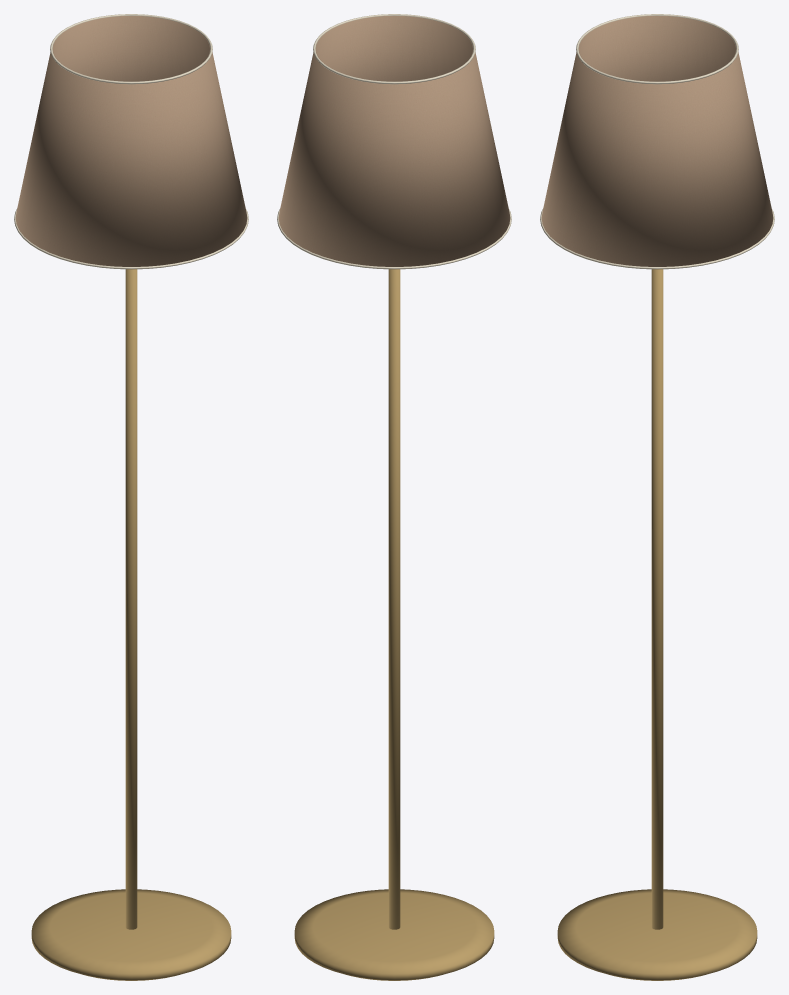
File: country.floor_lamp.gltf
3 views of the same model, side by side, from view 1: azimuth 30°, elevation 25°; view 2: azimuth 150°, elevation 25°; view 3: azimuth 270°, elevation 25° (orthographic).
Parts seen in each view (by area): view 1: country.floor_lamp.foot; view 2: country.floor_lamp.foot; view 3: country.floor_lamp.foot.
Boxes of the visible parts, x1=… form: country.floor_lamp.foot: x1=14, y1=14, x2=248, y2=980; country.floor_lamp.foot: x1=277, y1=14, x2=511, y2=980; country.floor_lamp.foot: x1=540, y1=14, x2=774, y2=980.
Size of the model in its own units: 0.364 by 1.53 by 0.364.
4 materials, 1 textured.
